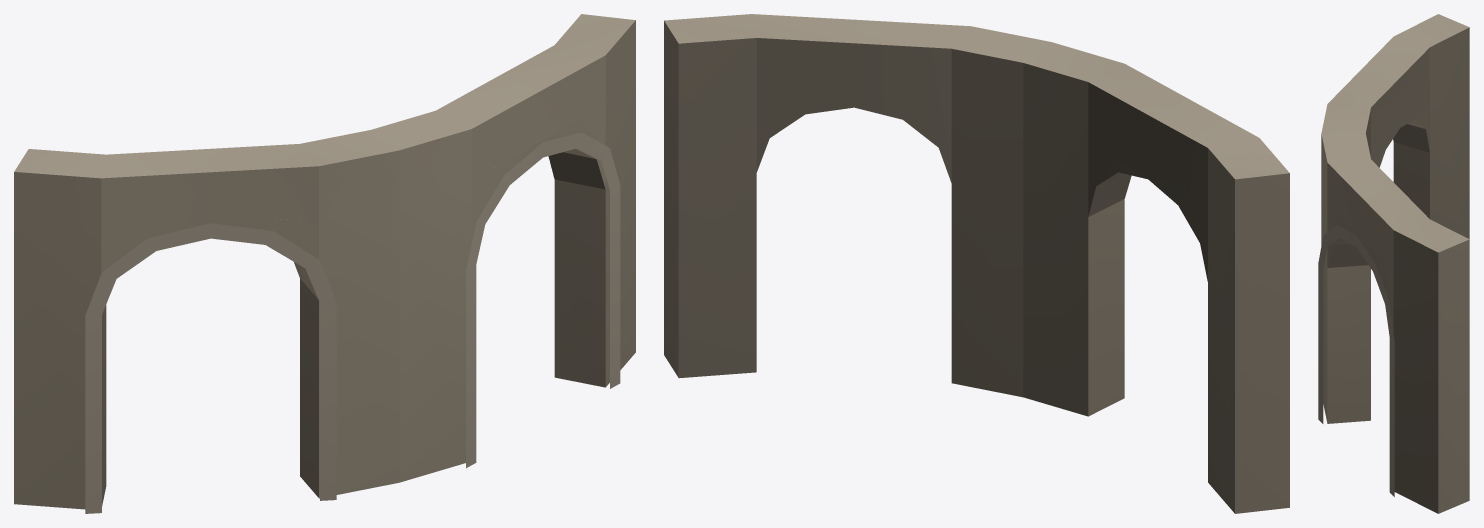
File: dome.drum_arch.stone.glb
3 renders of one model, left to right at view 1: azimuth 30°, elevation 25°; view 2: azimuth 150°, elevation 25°; view 3: azimuth 270°, elevation 25°, orthographic. The views are drawn at different scales.
Parts seen in each view (by area): view 1: dome_drum_arch_stone; view 2: dome_drum_arch_stone; view 3: dome_drum_arch_stone.
Part boxes in pixels (<box>): dome_drum_arch_stone: <box>14,14,635,513</box>; dome_drum_arch_stone: <box>664,14,1289,513</box>; dome_drum_arch_stone: <box>1318,14,1469,513</box>.
Size of what is drawn, in the model's own units: 5.09 by 2.6 by 1.37.
